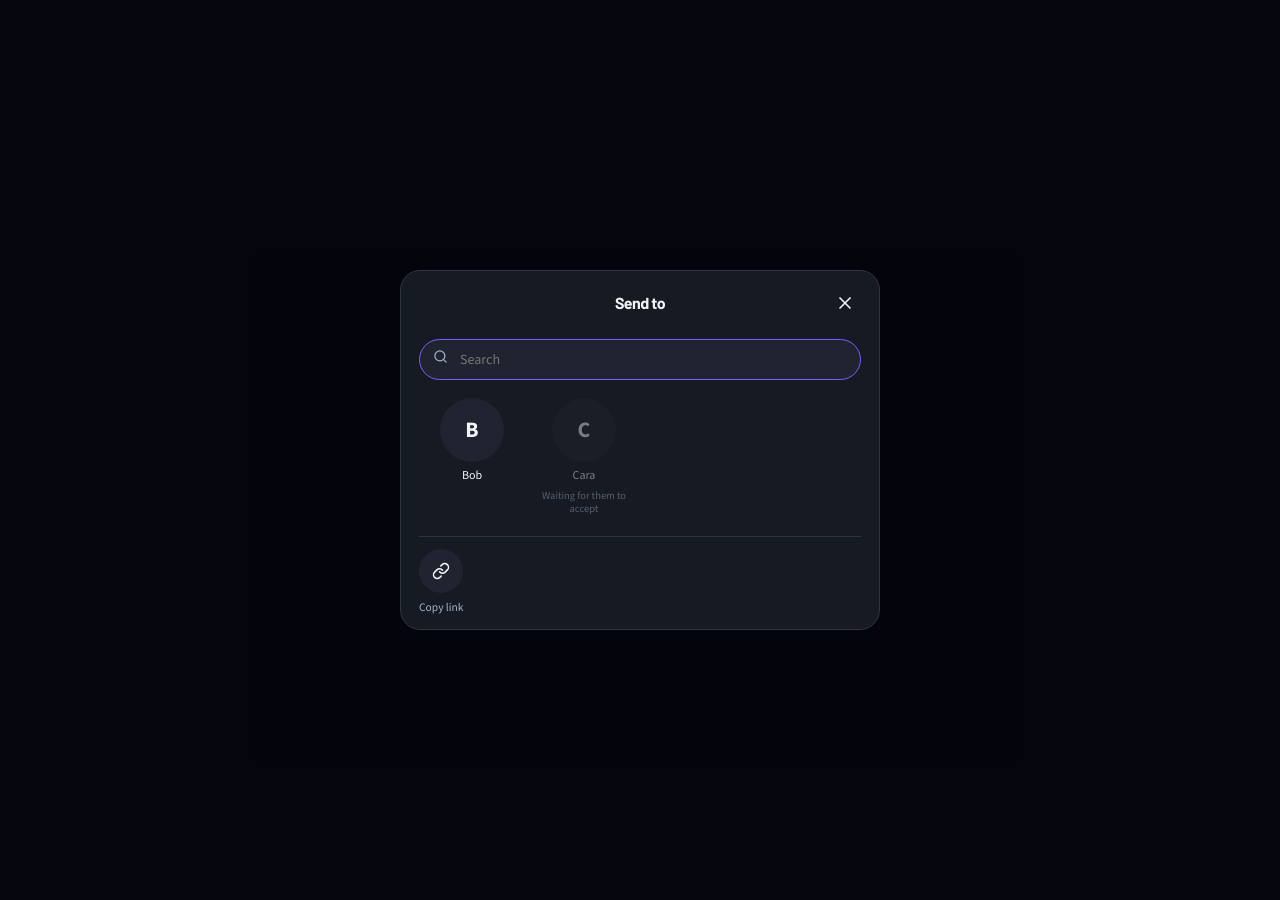
Test: SharePostDialog › sends the post with the message to each picked chat and shows who got it
Step 1. Click the checkbox labelled "B Bob" → (472, 456), box [419,398,525,514]
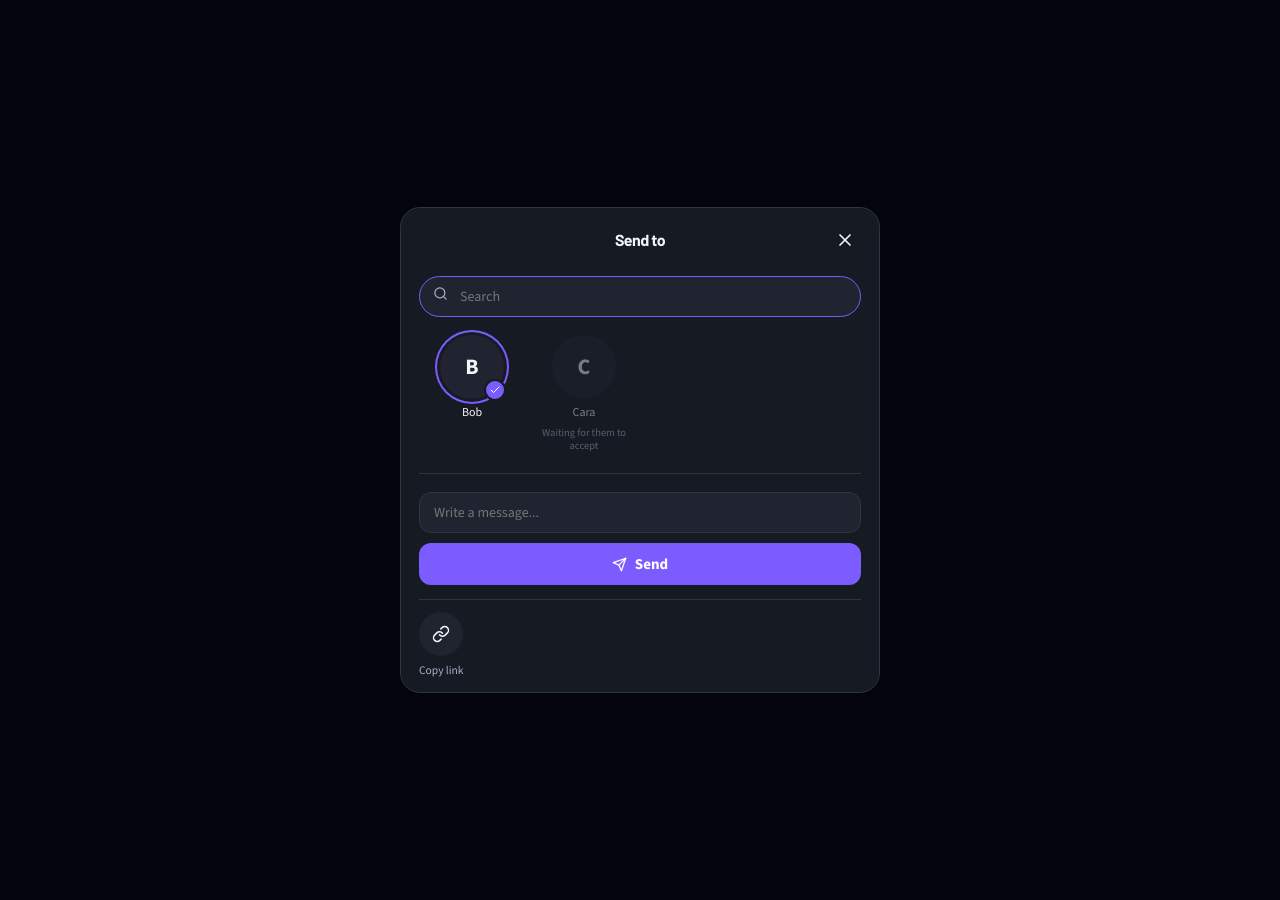
Step 2. Type "look at this" into the field named "Add a note" → (640, 513), box [419,492,861,533]
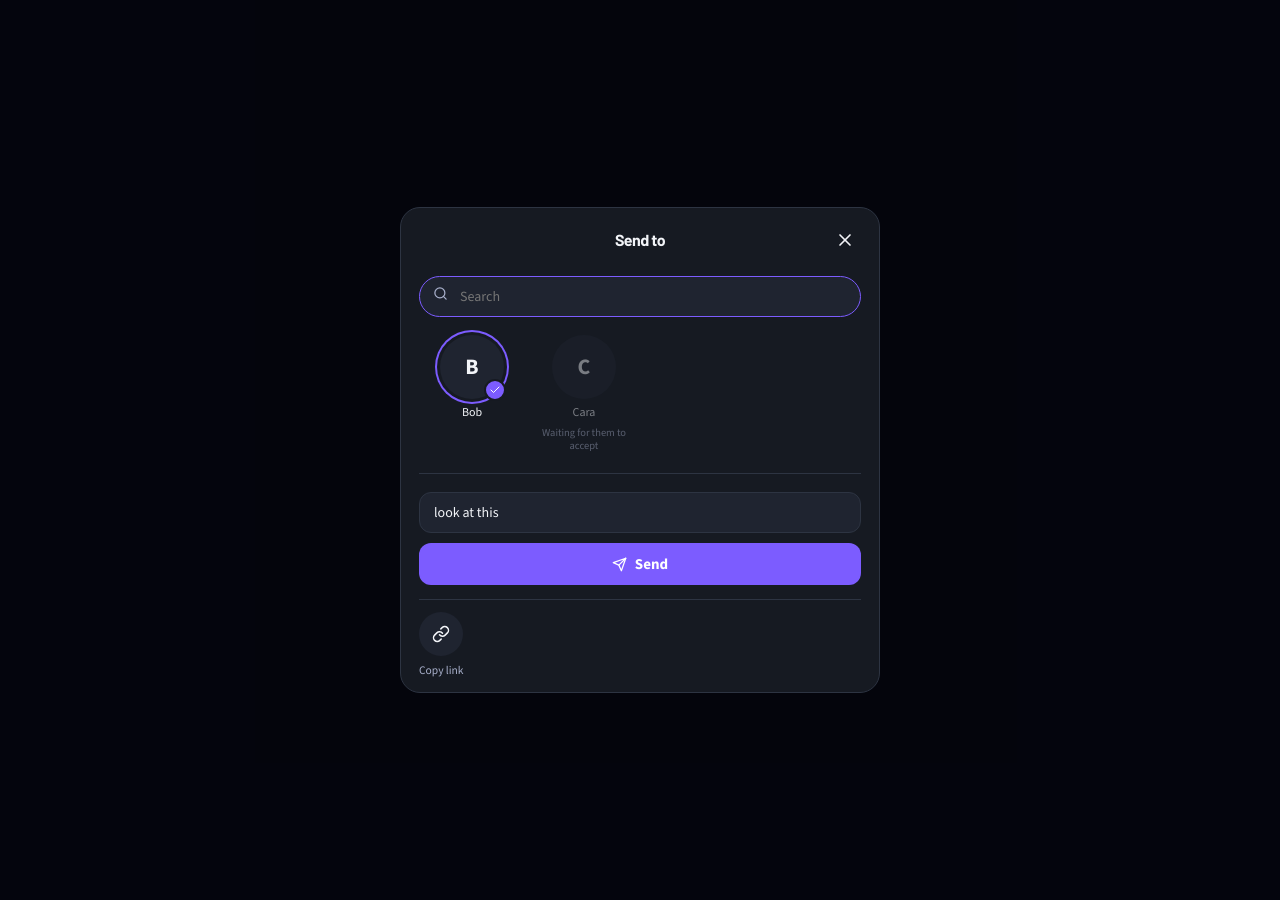
Step 3. Click the button "Send" → (640, 564), box [419,543,861,585]
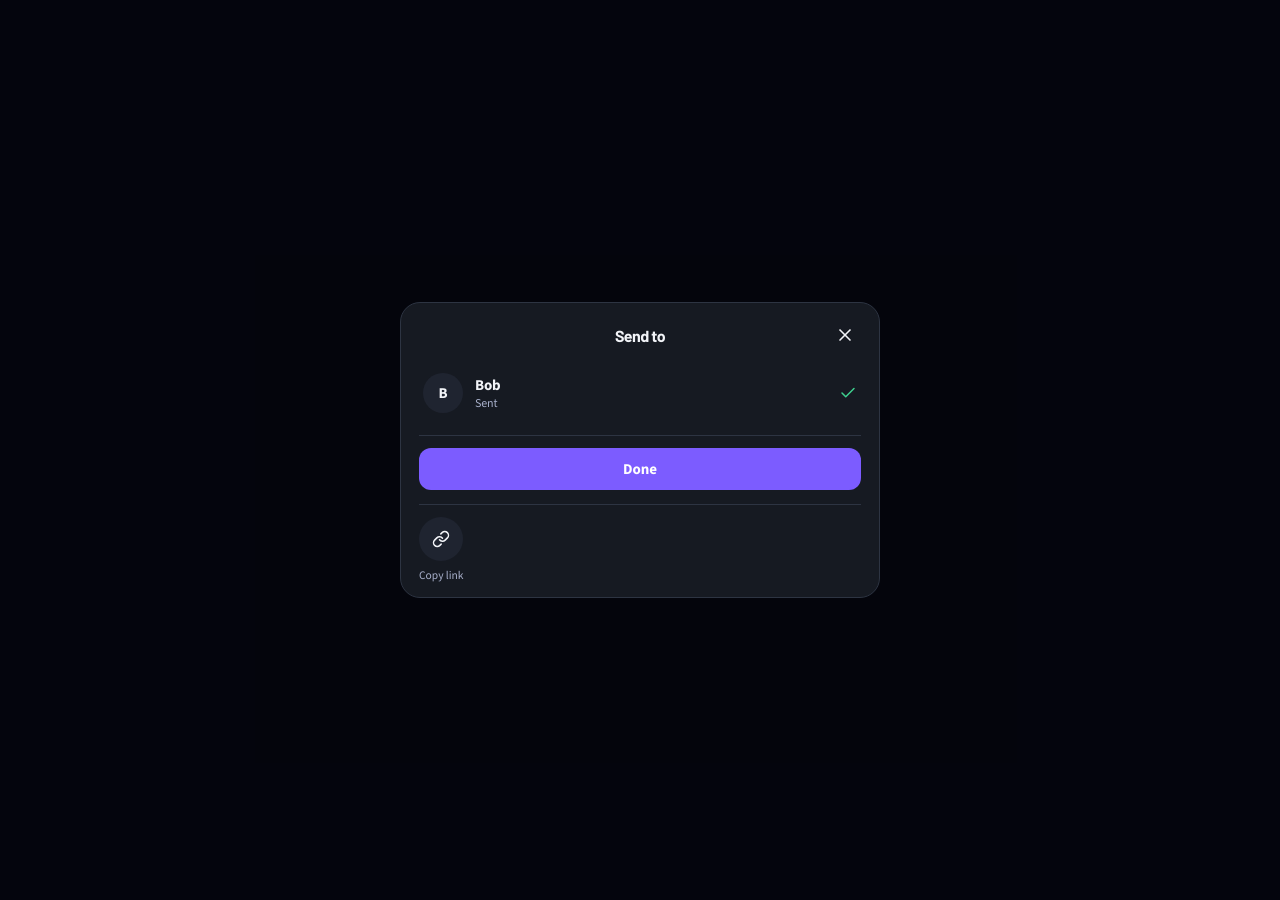
Now the message shows "Bob", box [475,375,500,395]
Now the message shows "Sent", box [475,395,497,411]
